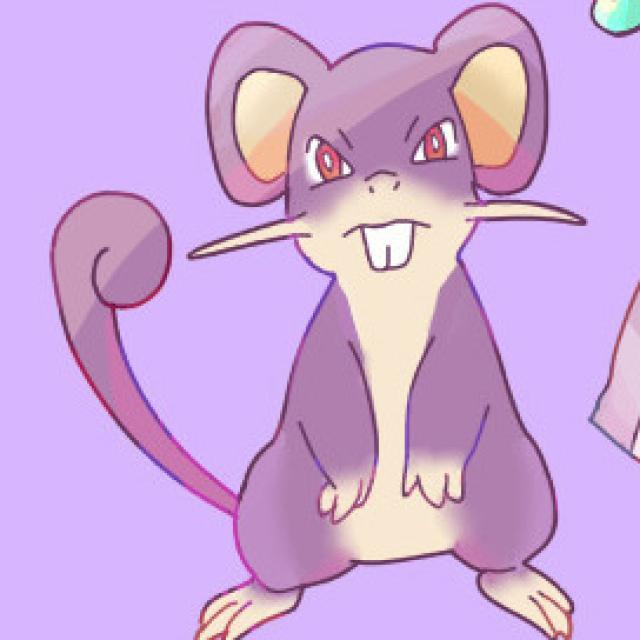Rattata: (219, 8, 549, 636)
